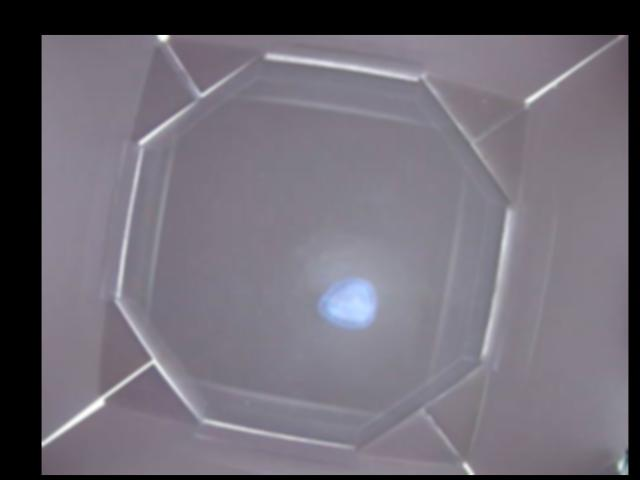Pebble: (319, 275, 376, 328)
